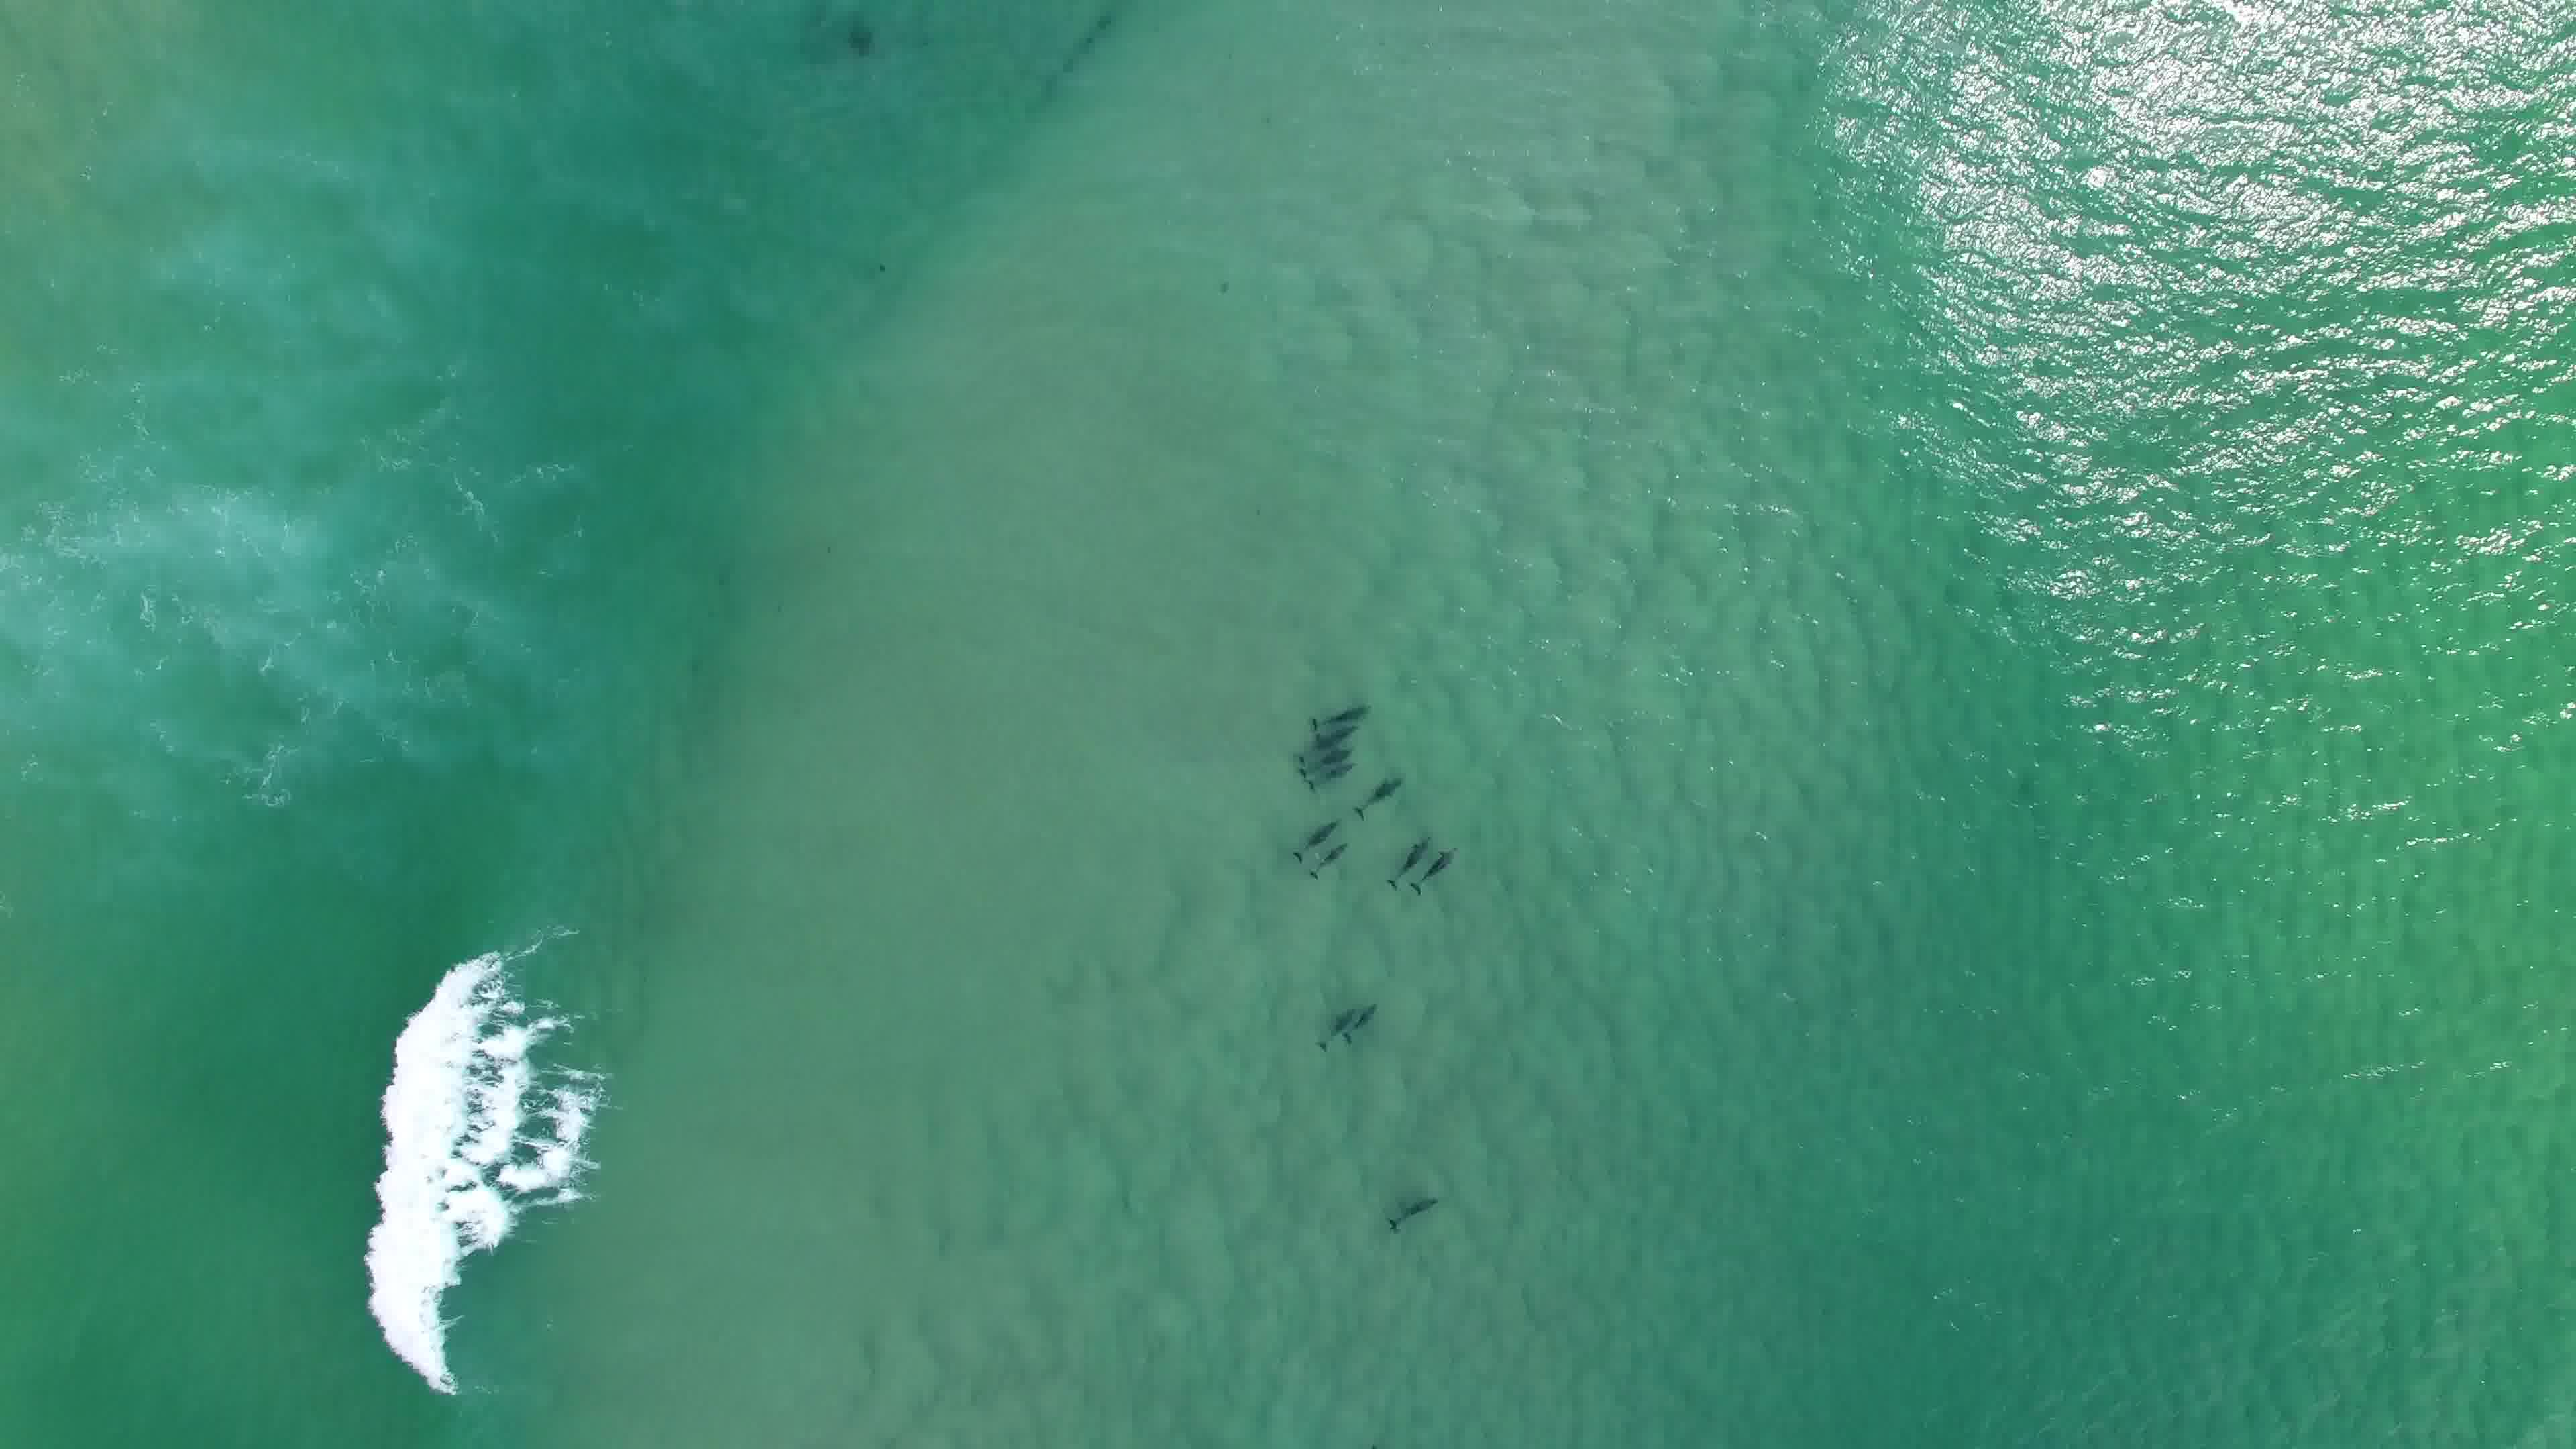dolphin: (1300, 993, 1362, 1047), (1382, 1182, 1438, 1237), (1380, 826, 1433, 885), (1299, 690, 1375, 727), (1408, 847, 1467, 890), (1304, 830, 1353, 879), (1336, 775, 1410, 807), (1279, 814, 1338, 851), (1295, 717, 1366, 747), (1341, 1001, 1387, 1047), (1290, 738, 1357, 766), (1297, 757, 1355, 784)
